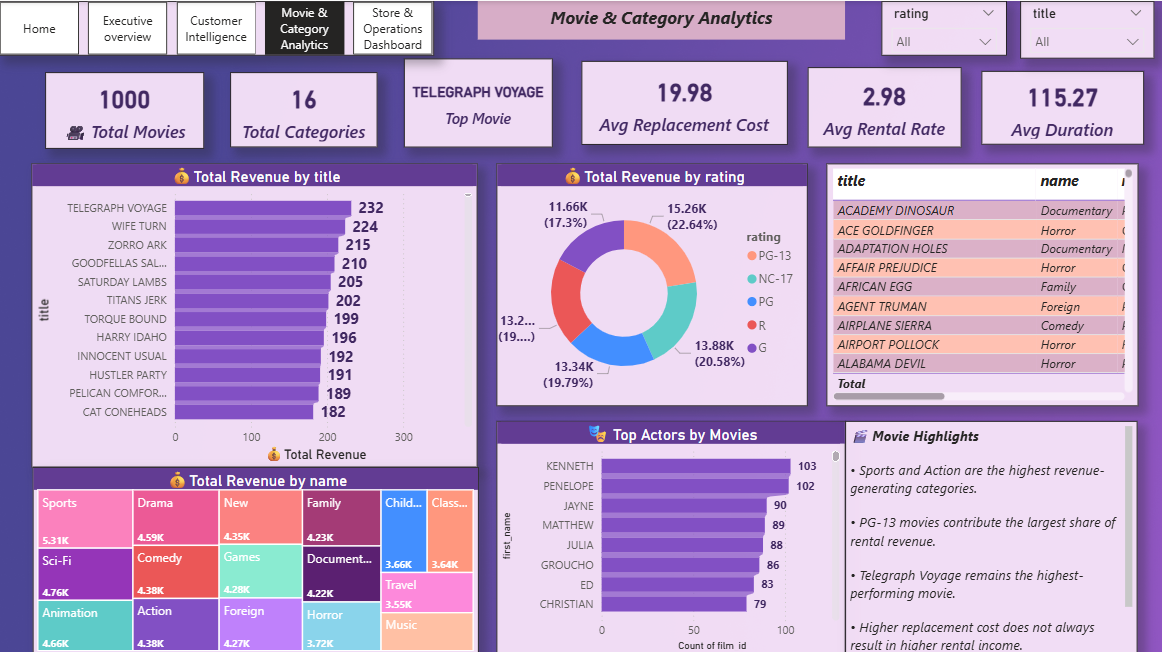

What the dashboard file says about the page in this screenshot:
{"tool":"powerbi","page":{"name":"Movie & Category Analytics","canvas":[1280,720],"ordinal":3},"visuals":[{"type":"textbox","box":[525.6,0,403.4,42.5],"z":0},{"type":"card","fields":{"Values":["Table.🎥 Total Movies"]},"box":[50.8,78.2,174.3,83.7],"z":1000},{"type":"card","fields":{"Values":["Table.Total Categories"]},"box":[253.9,78.2,161.9,82.3],"z":2000},{"type":"card","fields":{"Values":["Table.Avg Rental Rate"]},"box":[887.8,72.7,168.8,87.8],"z":3000},{"type":"card","fields":{"Values":["Table.Avg Duration"]},"box":[1078.6,76.8,178.4,81],"z":4000},{"type":"card","fields":{"Values":["Table.Avg Replacement Cost"]},"box":[639.5,65.9,226.4,91.9],"z":5000},{"type":"barChart","fields":{"Category":["film.title"],"Y":["Table.💰Total Revenue"]},"box":[35.7,178.4,489.9,333.4],"z":6000},{"type":"treemap","fields":{"Group":["category.name"],"Values":["Table.💰Total Revenue"]},"box":[37,511.8,489.9,208.6],"z":7000},{"type":"donutChart","fields":{"Category":["film.rating"],"Y":["Table.💰Total Revenue"]},"box":[546.1,178.4,341.7,266.2],"z":8000},{"type":"barChart","title":"🎭 Top Actors by Movies","fields":{"Category":["actor.first_name"],"Y":["CountNonNull(film_actor.film_id)"]},"box":[546.1,461.1,382.8,259.3],"z":9000},{"type":"tableEx","fields":{"Values":["film_text.title","category.name","film.rating","Sum(film.rental_rate)","Sum(film.replacement_cost)","Sum(film.length)"]},"box":[908,178,342,266],"z":10000},{"type":"textbox","box":[929,461,321,259],"z":11000},{"type":"card","fields":{"Values":["Table.Top Movie"]},"box":[444.6,63.1,163.3,97.4],"z":12000},{"type":"slicer","fields":{"Values":["film.title"]},"box":[1121.1,0,146.8,63.1],"z":12001},{"type":"slicer","fields":{"Values":["film.rating"]},"box":[968.8,0,137.2,60.4],"z":12002},{"type":"pageNavigator","box":[0,0,477.5,60.4],"z":12003}]}

Visuals, with their boxes on the page's 1280x720 design canvas (x1, y1, x2, y2). These are canvas units, not pixel positions in the 1162x652 screenshot, which may show the page scaled, cropped or inside an application window:
textbox: BBox(526, 0, 929, 42)
card - Table.🎥 Total Movies: BBox(51, 78, 225, 162)
card - Table.Total Categories: BBox(254, 78, 416, 160)
card - Table.Avg Rental Rate: BBox(888, 73, 1057, 160)
card - Table.Avg Duration: BBox(1079, 77, 1257, 158)
card - Table.Avg Replacement Cost: BBox(640, 66, 866, 158)
barChart - film.title x Table.💰Total Revenue: BBox(36, 178, 526, 512)
treemap - category.name x Table.💰Total Revenue: BBox(37, 512, 527, 720)
donutChart - film.rating x Table.💰Total Revenue: BBox(546, 178, 888, 445)
"🎭 Top Actors by Movies" barChart: BBox(546, 461, 929, 720)
tableEx - film_text.title x category.name: BBox(908, 178, 1250, 444)
textbox: BBox(929, 461, 1250, 720)
card - Table.Top Movie: BBox(445, 63, 608, 160)
slicer - film.title: BBox(1121, 0, 1268, 63)
slicer - film.rating: BBox(969, 0, 1106, 60)
pageNavigator: BBox(0, 0, 478, 60)
